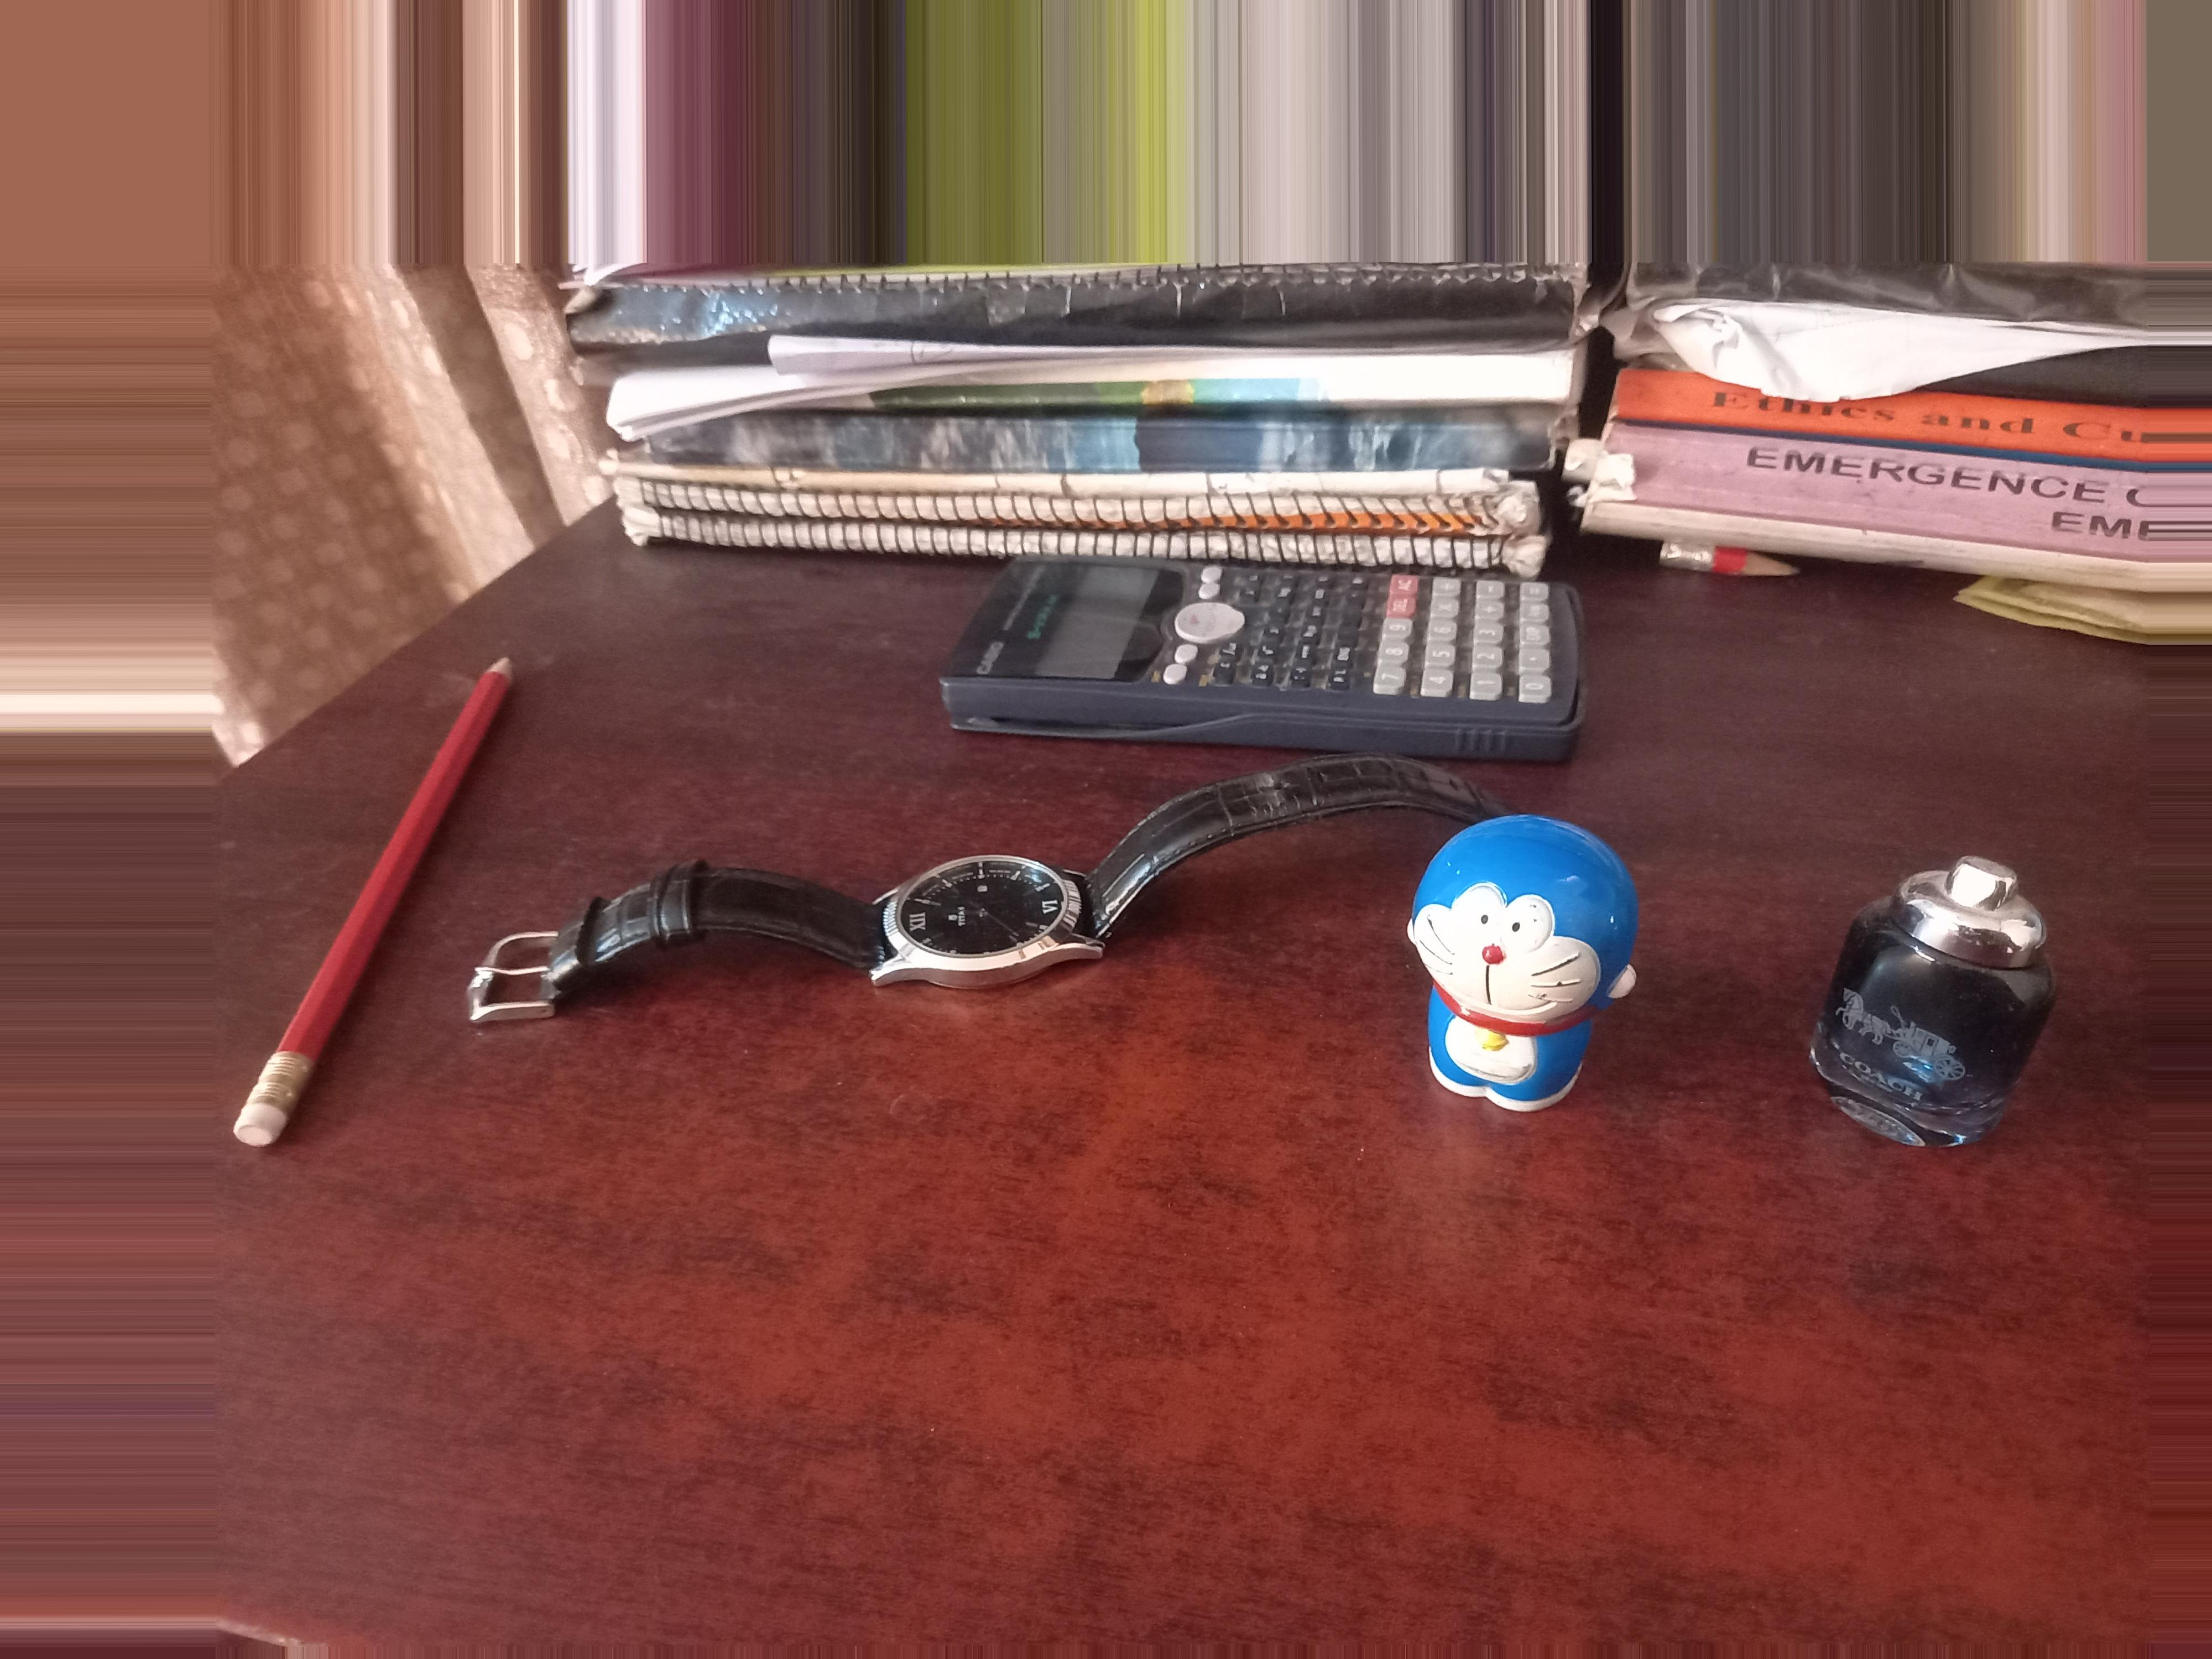calculator: (1022, 552, 1583, 765)
doraemon: (1439, 845, 1616, 1086)
pencil: (223, 678, 444, 1155)
perfume: (1857, 856, 2036, 1143)
